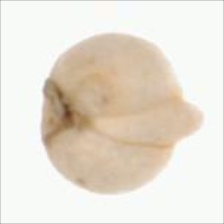L5: (86, 95, 212, 147), (37, 77, 85, 150)
L6: (36, 31, 209, 196)
